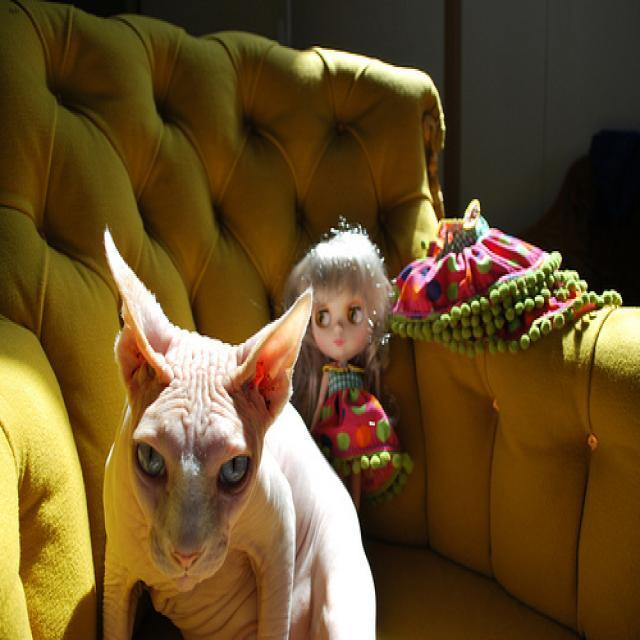Sphynx: (101, 226, 311, 588)
